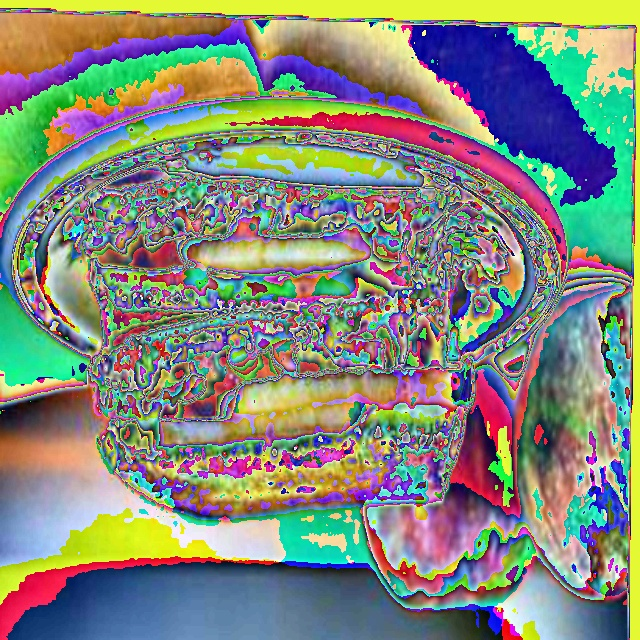background: (74, 177, 632, 616)
